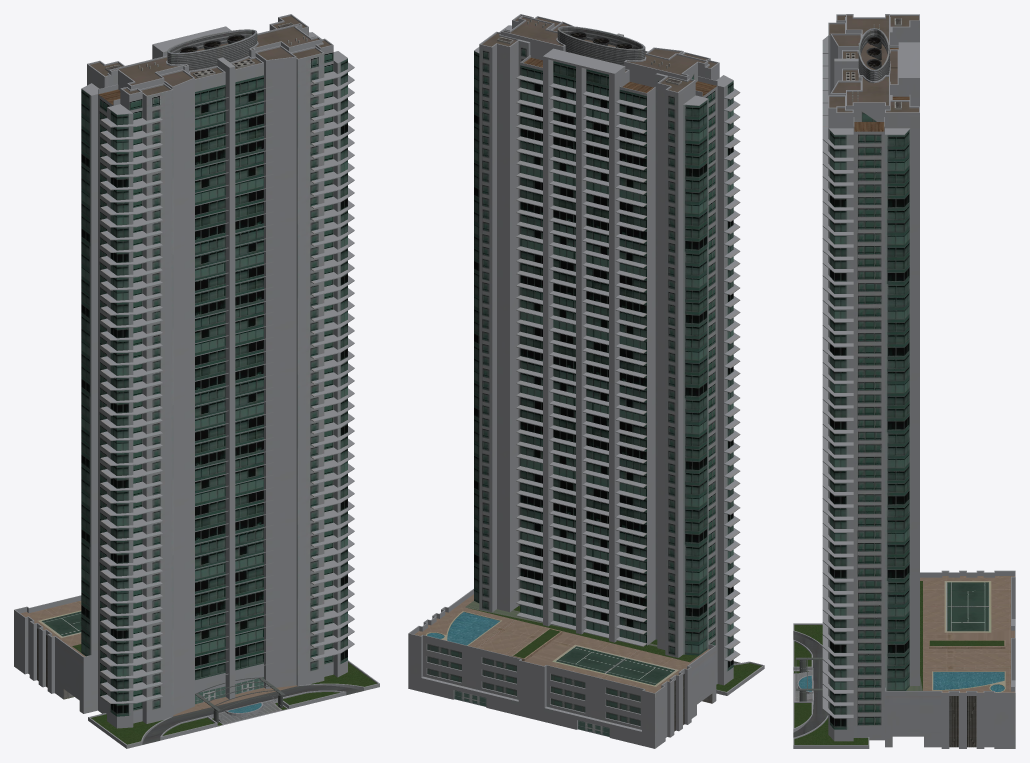
The picture shows the model from 3 angles, left to right: view 1: azimuth 30°, elevation 25°; view 2: azimuth 150°, elevation 25°; view 3: azimuth 270°, elevation 25°; orthographic projection. The views are drawn at different scales.
Visible parts, largest first — view 1: hirise8_hirise8_0; view 2: hirise8_hirise8_0; view 3: hirise8_hirise8_0.
Part boxes in pixels (box(x1,y1,x2,y2)): hirise8_hirise8_0: box(14, 14, 379, 748); hirise8_hirise8_0: box(408, 14, 764, 748); hirise8_hirise8_0: box(793, 14, 1015, 748).
Bounding box in the file's own units: 6664 × 16247 × 5129.
1 material, 1 textured.
